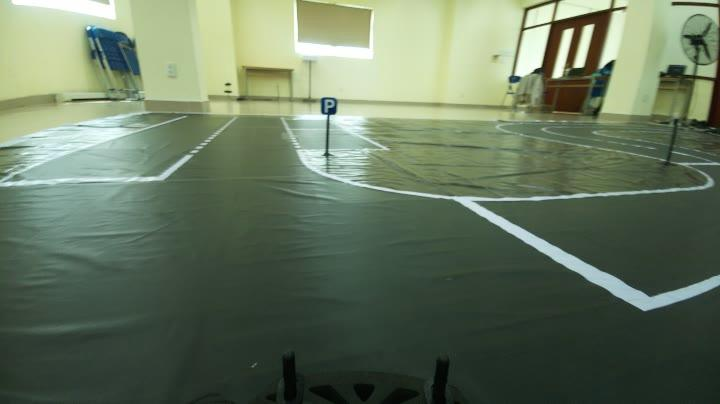parking: (316, 91, 347, 121)
